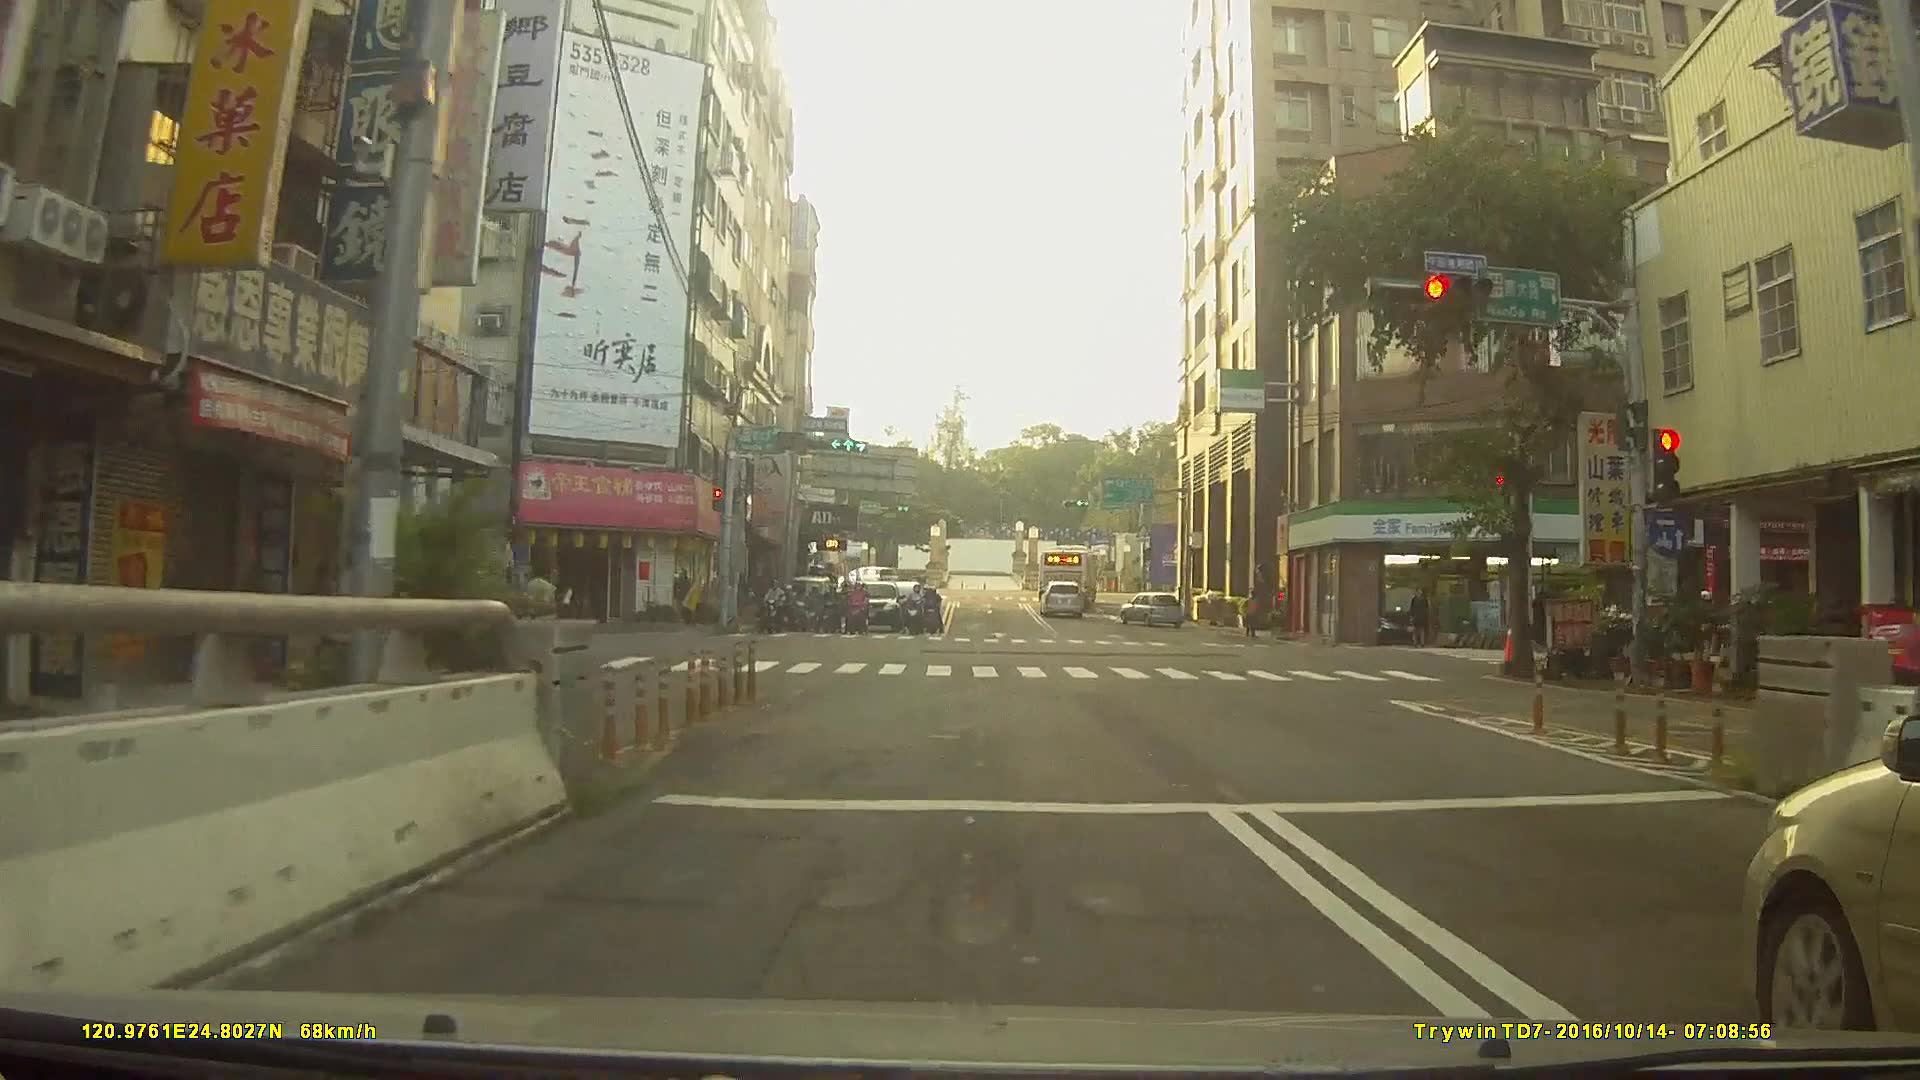pedestrian: (519, 563, 559, 659), (1400, 584, 1426, 647), (1242, 589, 1262, 640), (560, 579, 580, 621)
rider: (759, 574, 789, 634), (843, 582, 870, 636), (821, 581, 845, 636), (791, 583, 815, 633), (904, 584, 926, 635), (921, 593, 942, 643)
vehicle: (1745, 705, 1920, 1058), (1036, 541, 1101, 601), (844, 580, 902, 637), (1117, 587, 1184, 625), (1038, 578, 1087, 616), (840, 561, 898, 590)
